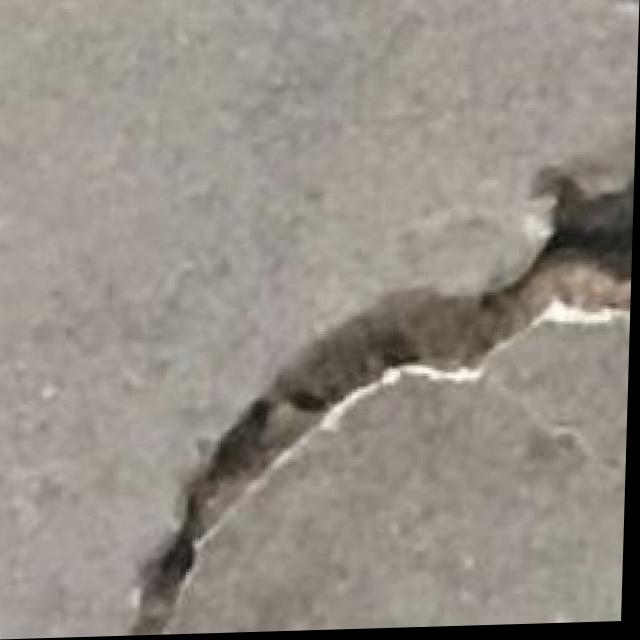Crack: (61, 160, 636, 635)
